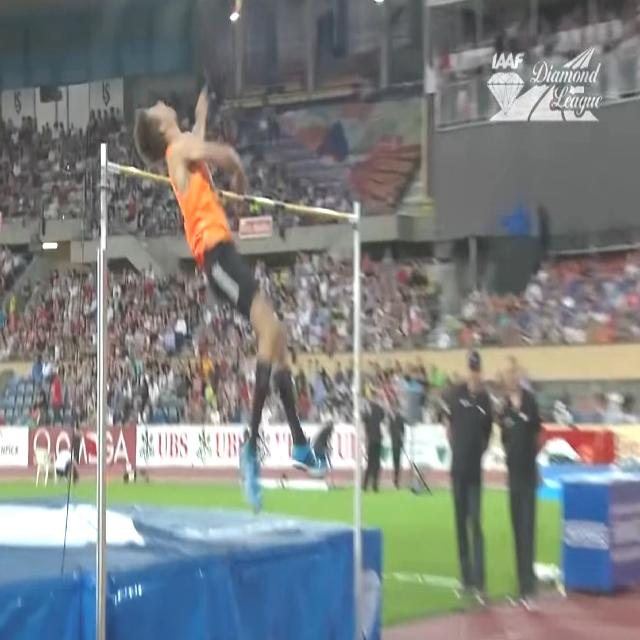jump: (133, 86, 328, 511)
